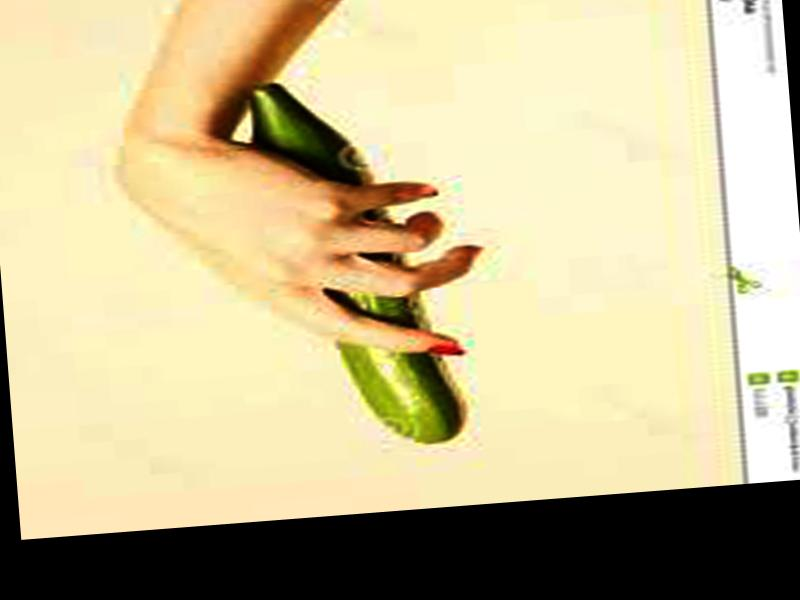Cucumber: (249, 66, 469, 455)
